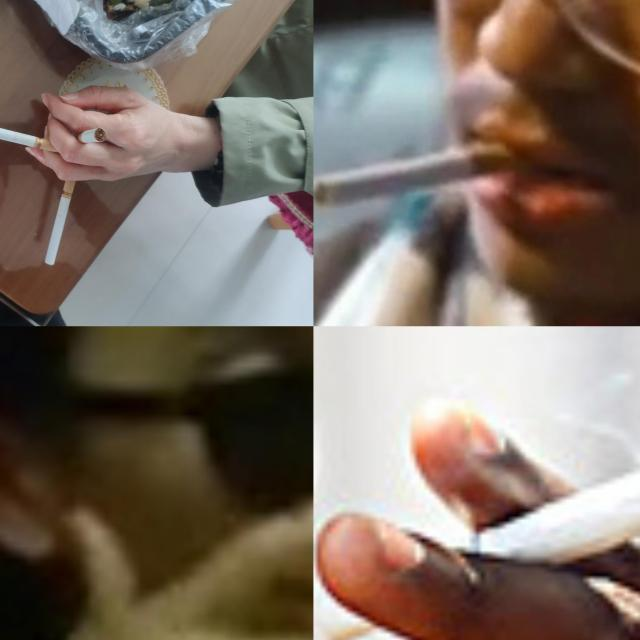smoking: (318, 438, 640, 640), (314, 132, 534, 208), (44, 169, 78, 266), (0, 117, 65, 155), (75, 128, 108, 144)
